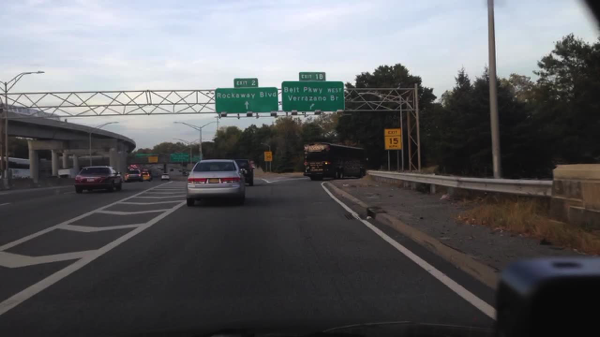bus: (301, 141, 365, 182), (0, 157, 32, 180), (59, 165, 76, 176)
car: (185, 158, 247, 208), (73, 165, 123, 194), (235, 159, 254, 187), (125, 169, 142, 183), (140, 170, 152, 182), (141, 169, 153, 180), (160, 173, 172, 182), (156, 165, 163, 170), (251, 164, 256, 170), (178, 168, 184, 173), (169, 168, 175, 173), (130, 166, 135, 171), (133, 166, 139, 170)
traffic sign: (281, 81, 345, 112), (214, 88, 279, 114), (383, 128, 401, 150), (298, 71, 326, 81), (233, 78, 258, 88), (169, 153, 189, 162), (264, 151, 272, 162), (147, 157, 159, 163), (189, 157, 200, 163)
